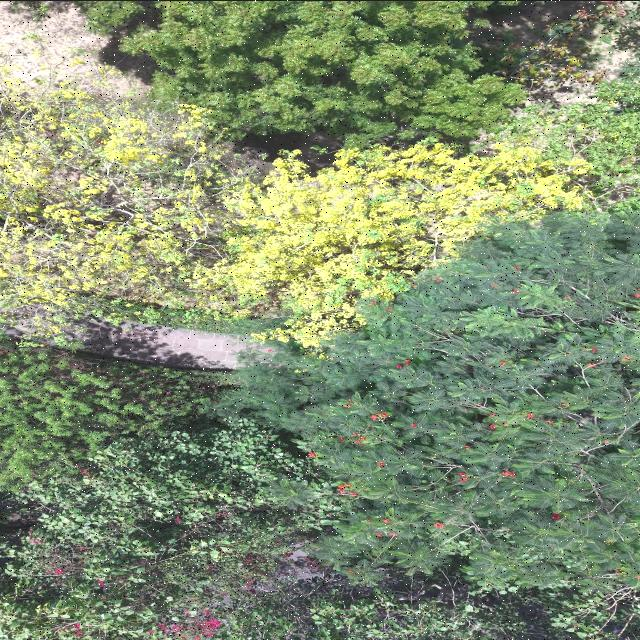DRY_AREA: (0, 1, 148, 98), (0, 1, 149, 97), (0, 1, 130, 89), (0, 1, 126, 91), (65, 319, 269, 369), (64, 320, 270, 369), (469, 1, 599, 47), (282, 543, 322, 584)
PATHWAYS: (65, 319, 271, 369)
VEGETATION_TREE: (0, 1, 639, 639), (234, 202, 639, 594), (0, 82, 585, 347), (2, 418, 635, 639), (1, 343, 338, 639), (192, 143, 585, 346), (1, 419, 334, 639), (0, 78, 255, 335), (73, 1, 523, 146), (0, 80, 251, 313), (120, 1, 522, 145), (0, 339, 236, 490), (222, 577, 634, 639), (220, 577, 563, 639), (498, 66, 639, 208), (467, 1, 636, 92), (498, 1, 623, 89), (309, 592, 525, 639), (72, 1, 143, 34), (76, 1, 142, 33)
